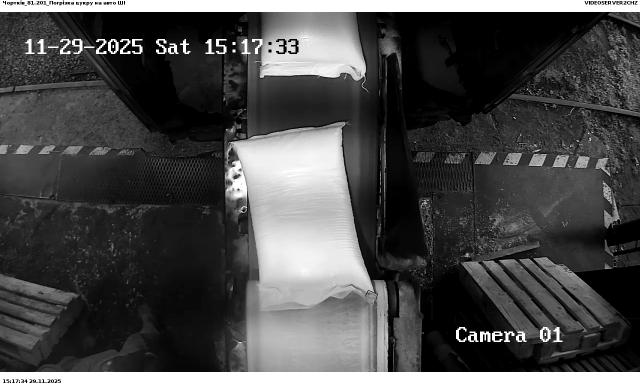bag: (229, 122, 380, 305), (259, 12, 370, 81)
